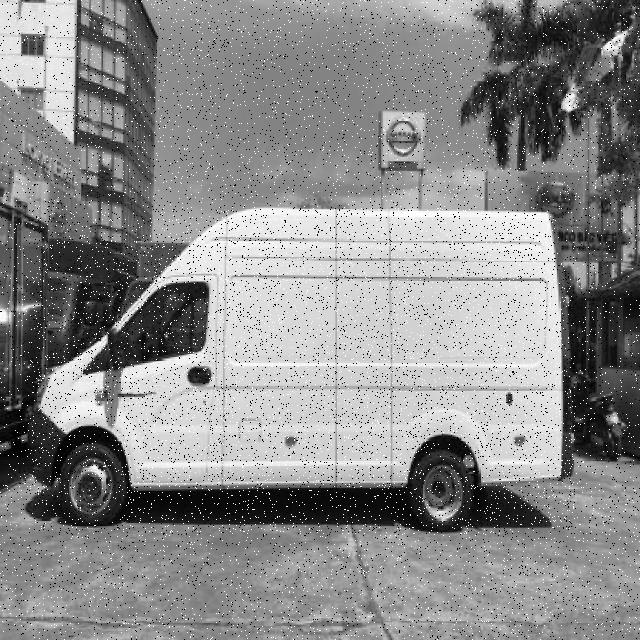Van: (30, 208, 575, 534)
